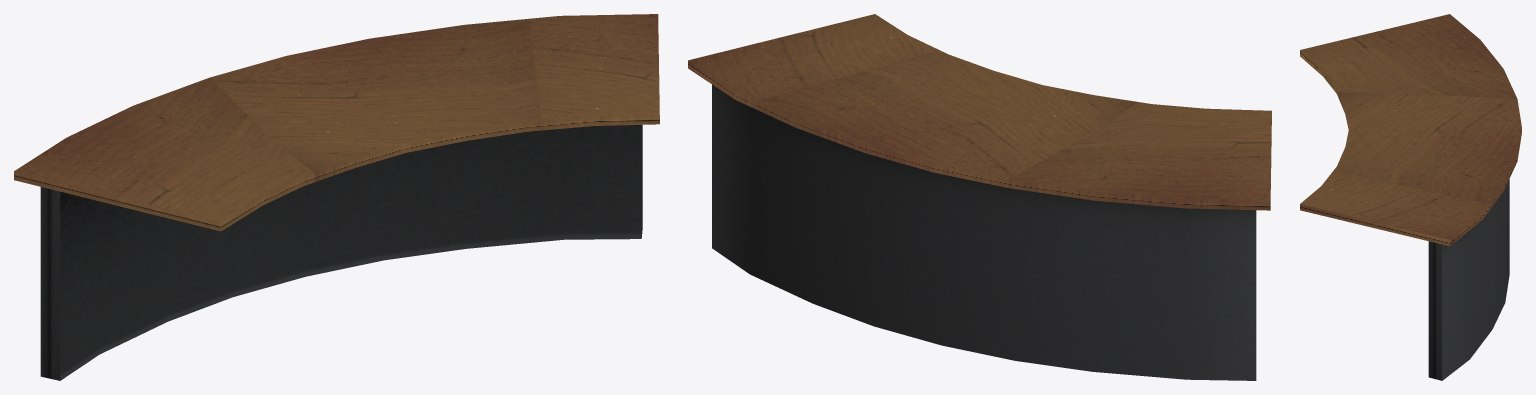
File: Office_DeskSlightCurve_1.fbx
3 renders of one model, left to right at view 1: azimuth 30°, elevation 25°; view 2: azimuth 150°, elevation 25°; view 3: azimuth 270°, elevation 25°, orthographic. The views are drawn at different scales.
Parts seen in each view (by area): view 1: Office_DeskSlightCurve_1; view 2: Office_DeskSlightCurve_1; view 3: Office_DeskSlightCurve_1.
Part boxes in pixels (x1,y1,x2,y2): Office_DeskSlightCurve_1: [14, 14, 659, 380]; Office_DeskSlightCurve_1: [688, 14, 1271, 380]; Office_DeskSlightCurve_1: [1300, 14, 1521, 380].
Size of the model in its own units: 260 by 79.56 by 108.
